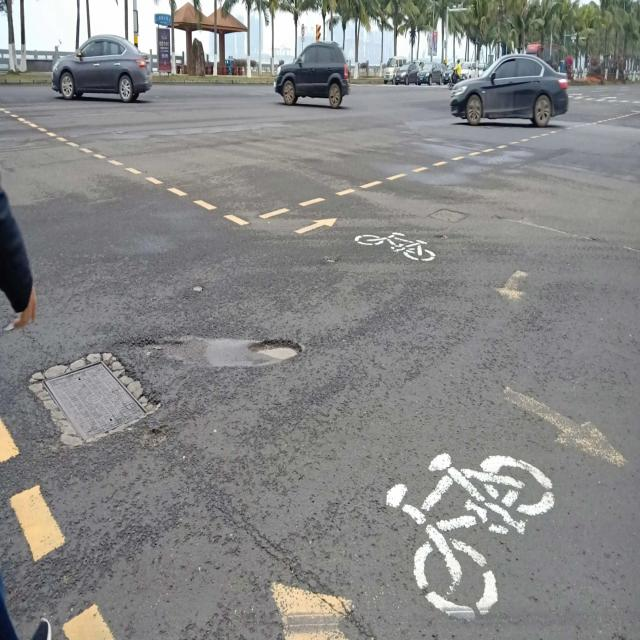Pothole: (29, 352, 170, 450), (242, 332, 306, 373)
